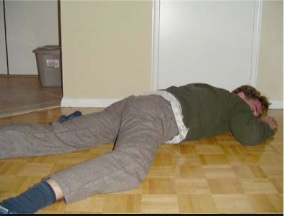collapsed: (1, 68, 283, 216)
